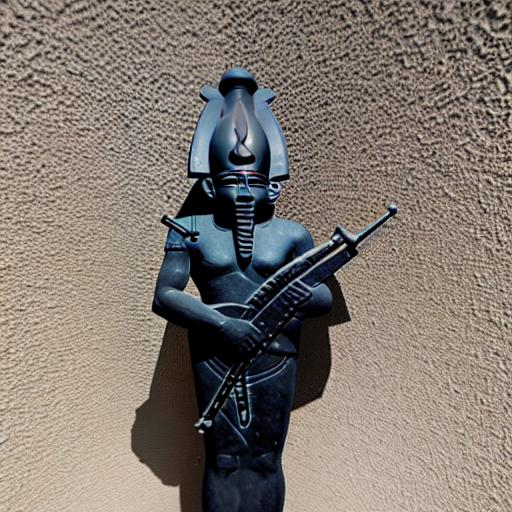Statue of Osiris: (151, 67, 401, 512)
